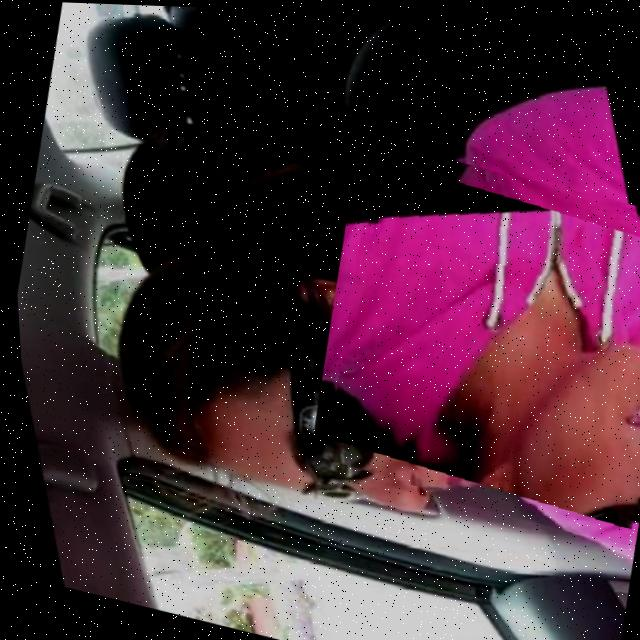no-seatbelt: (301, 136, 640, 543)
